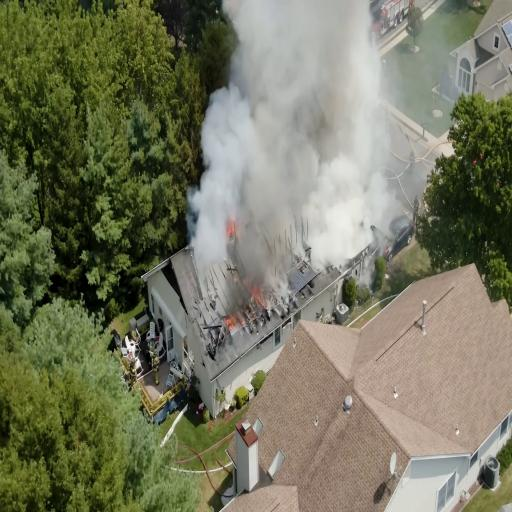smoke: (233, 0, 377, 143), (291, 106, 386, 266), (247, 151, 293, 252)
